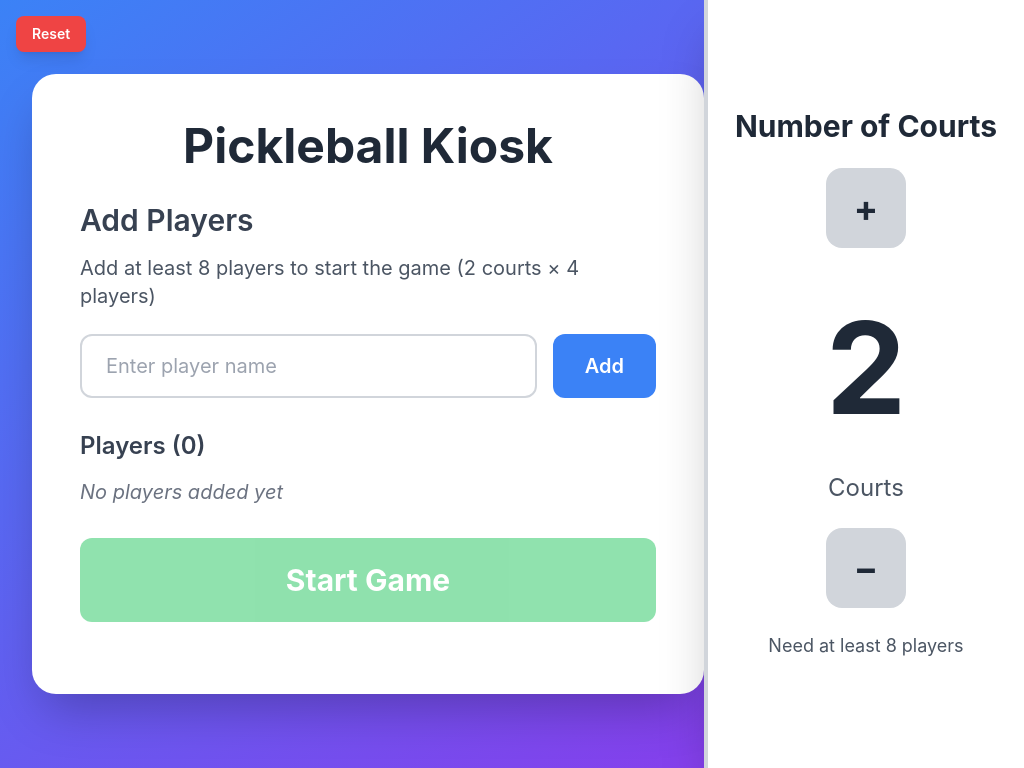
Test: PlayerSetup › Adding Players › clears error when typing after validation error
# Trigger error
Click the button "Add". click: (604, 366)
box: left=553, top=334, right=656, bottom=398
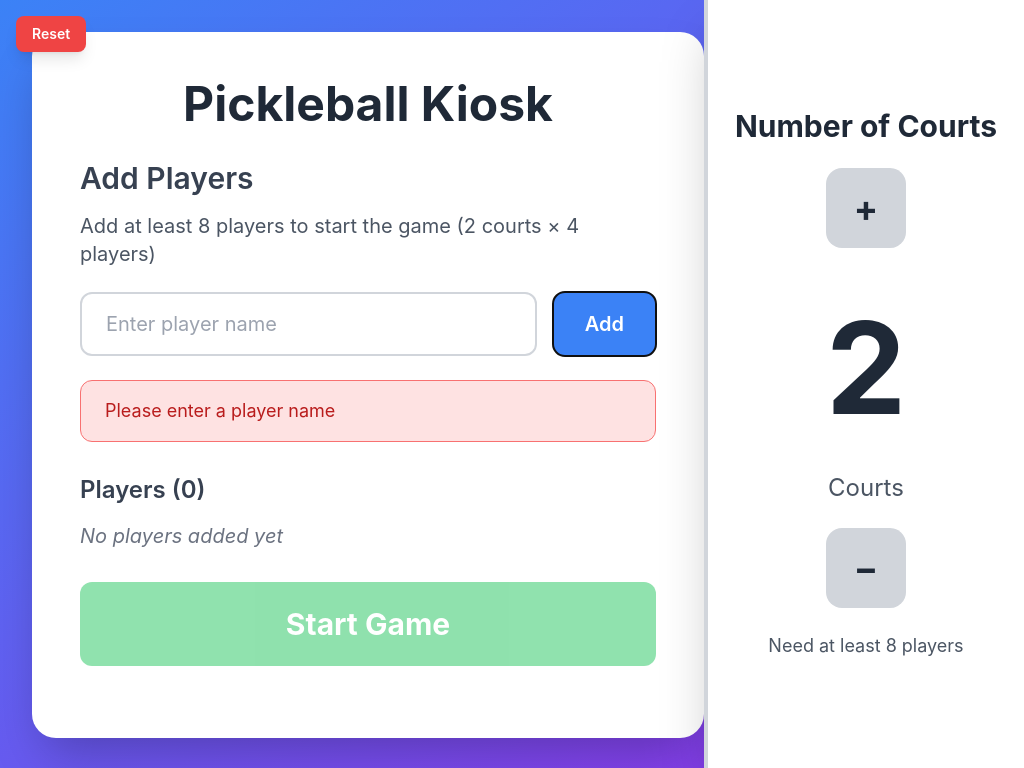
Check: the text "Please enter a player name" is shown, box left=80, top=380, right=656, bottom=442
# Type valid name - error should be cleared
Type "Charlie" into the field with placeholder "Enter player name". click: (308, 324)
box: left=80, top=292, right=537, bottom=356
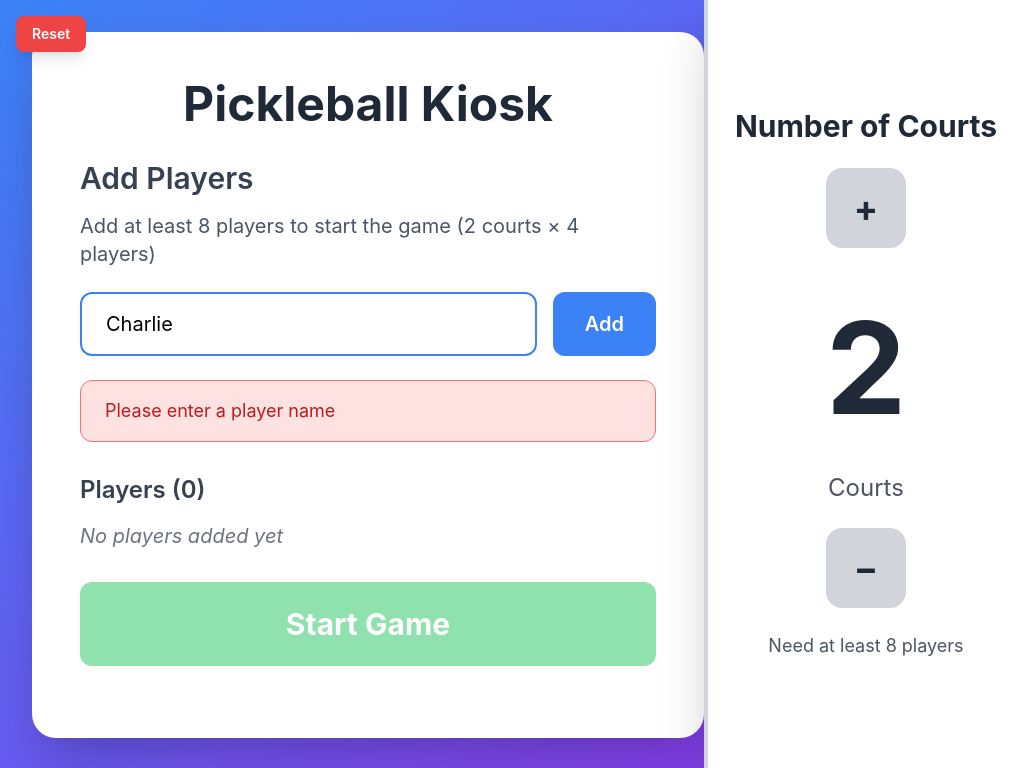
Click the button "Add". click: (604, 324)
box: left=553, top=292, right=656, bottom=356
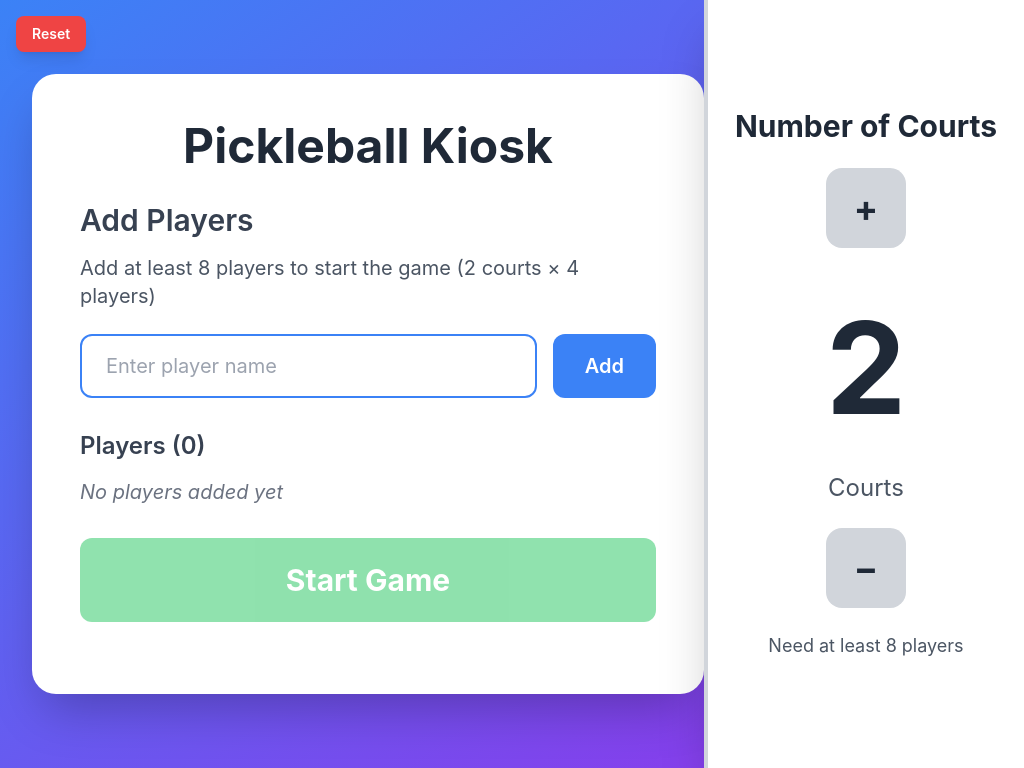
Check: the text "Please enter a player name" is gone
